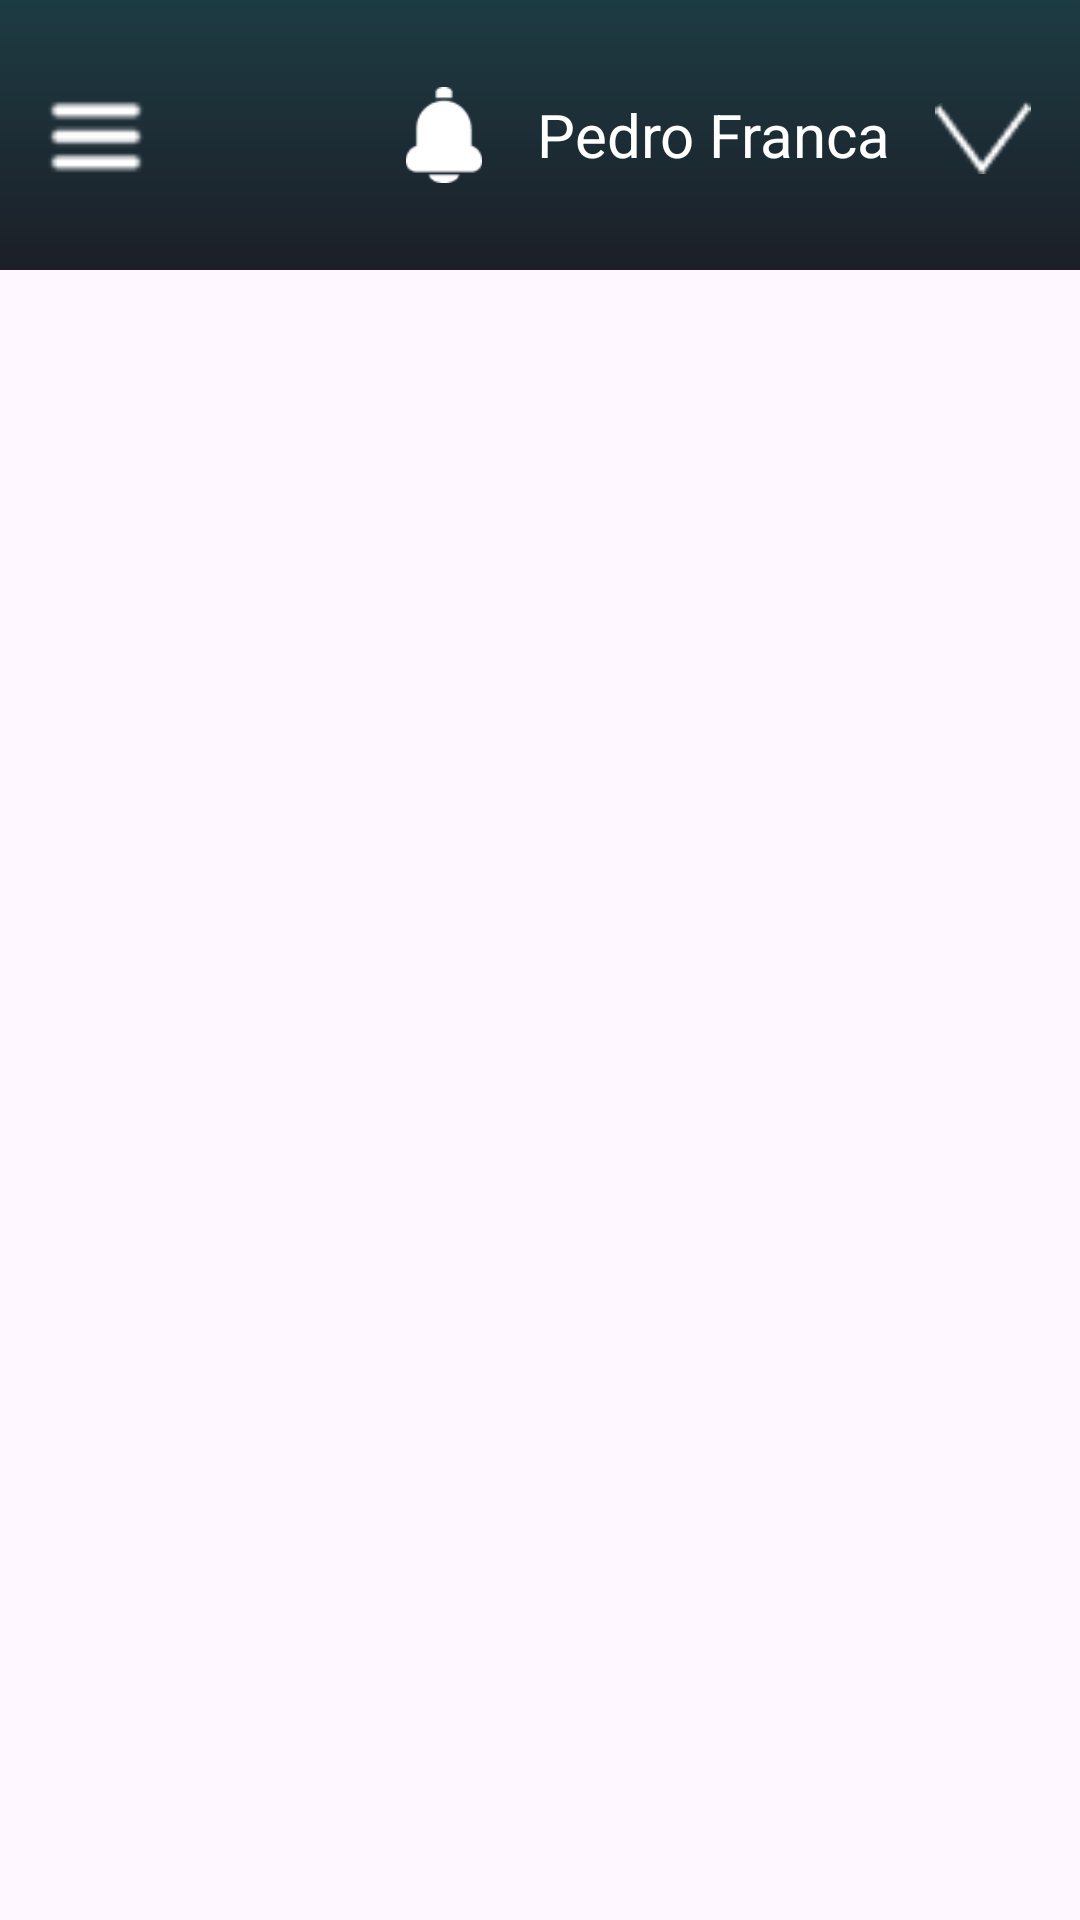

Screen size 1080 × 1920. Icon name, then its center in pixels as [x,y]:
menu: [96,136]
notification bell: [444,135]
